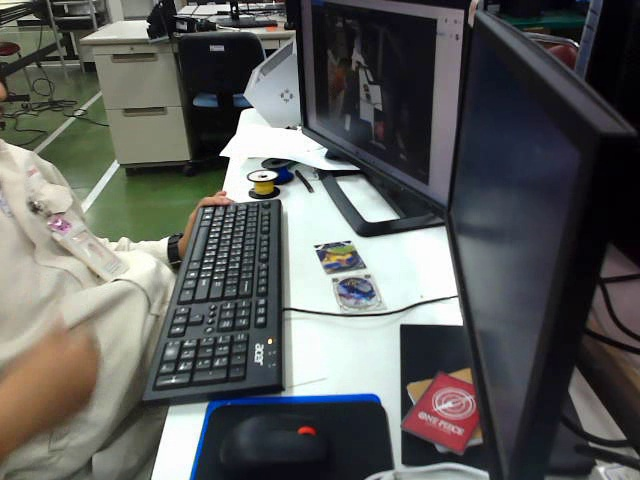can: (326, 274, 387, 310), (307, 235, 368, 271)
